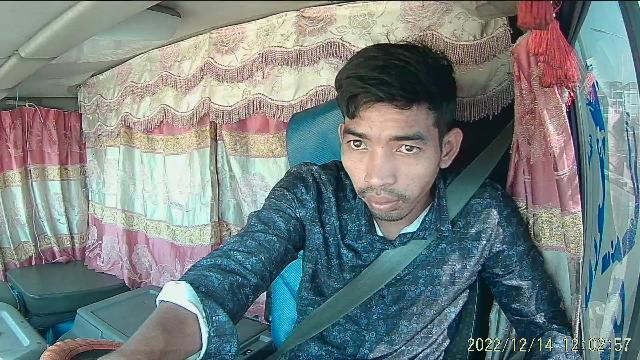SafeDriving: (388, 136, 428, 159), (340, 130, 375, 154)
Seatbelt: (287, 152, 505, 354)
